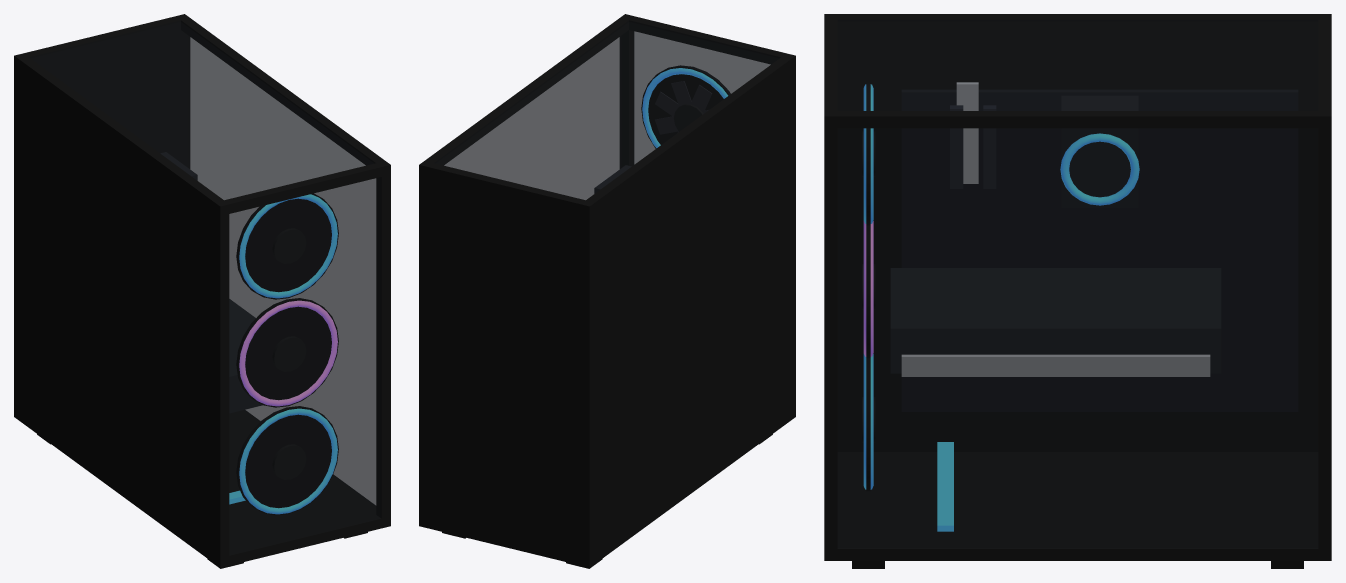
File: 16-pc-case-panoramic-glass-blue.glb
The picture shows the model from 3 angles, left to right: view 1: azimuth 30°, elevation 25°; view 2: azimuth 150°, elevation 25°; view 3: azimuth 270°, elevation 25°; orthographic projection. The views are drawn at different scales.
Size of the model in its own units: 0.22 by 0.46 by 0.46.
